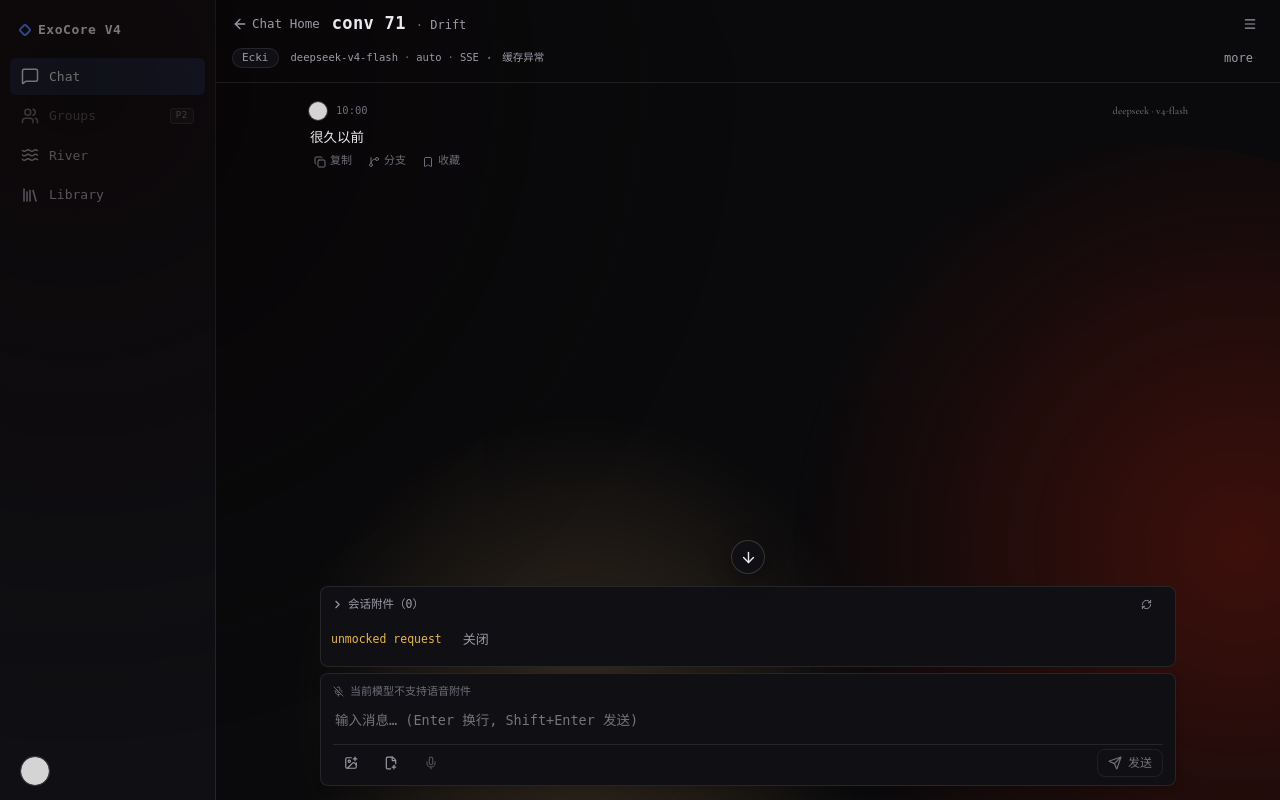
C1B-R1 repair invariants — canonical reconciliation (R1-03) › scrolled-up reader: terminal holds pages untouched and applies canonical window on return-to-latest
The image size is (1280, 800).
Expected: the text "很久以前" is shown, 310,129 -> 364,145
Type "提问" into the text box with placeholder "输入消息… (Enter 换行, Shift+Enter 发送)" at (748, 720), box 333,708 -> 1163,732
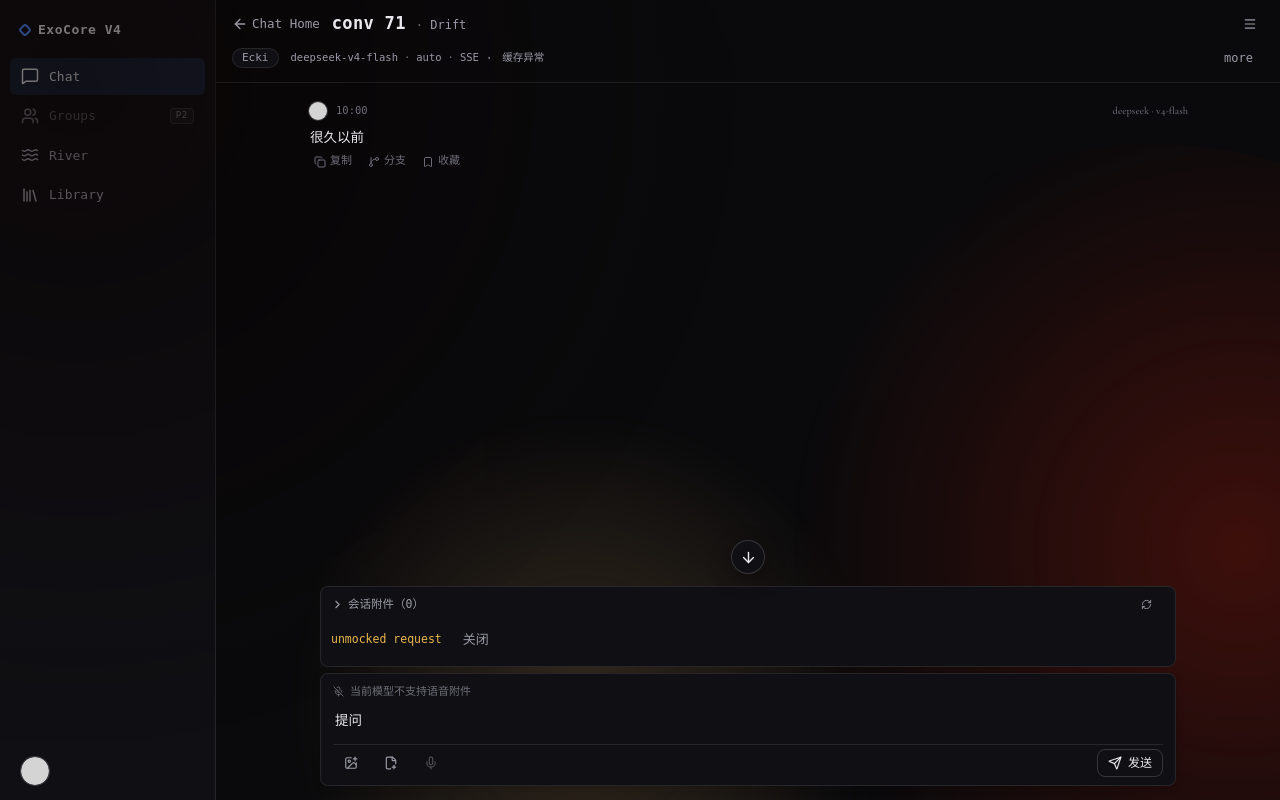
Press Enter in the text box named "消息输入框", box 333,708 -> 1163,732
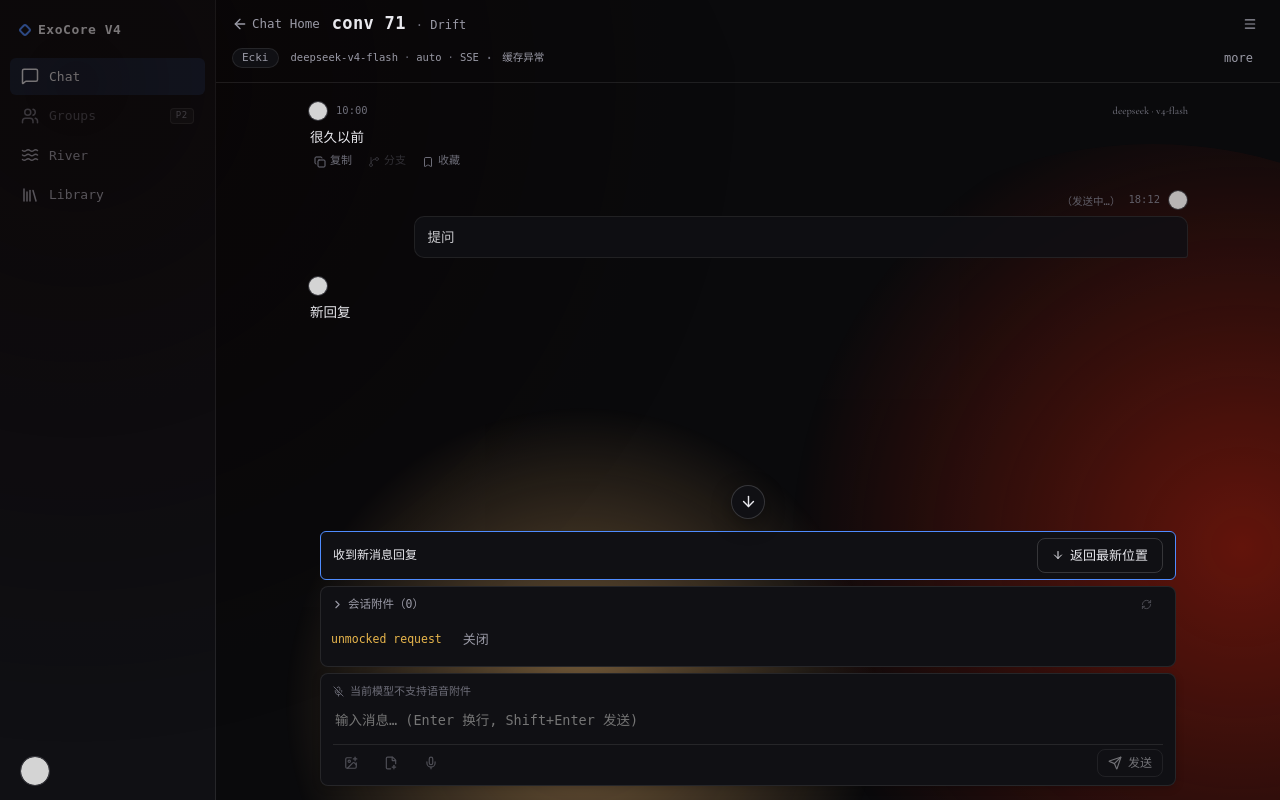
Click the button named "返回最新消息" at (748, 502), box 731,484 -> 765,518
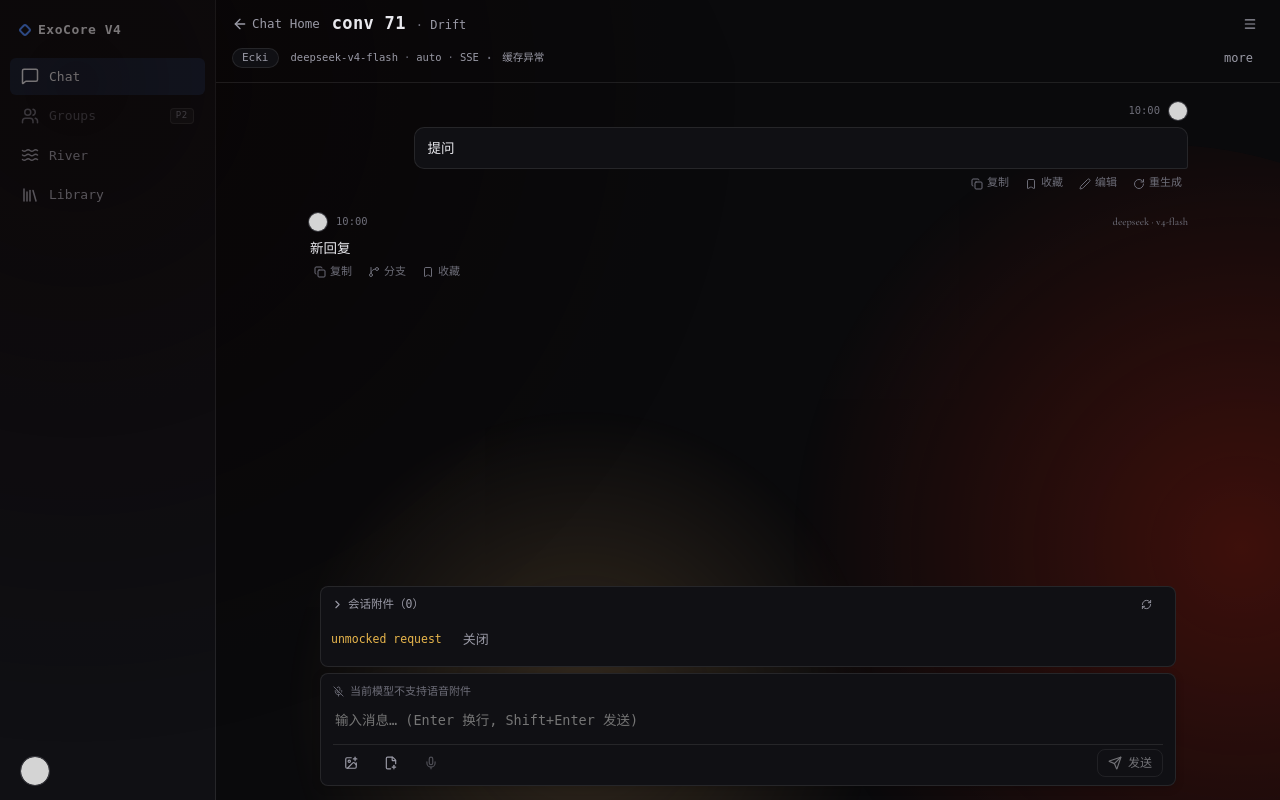
Expected: the text "新回复" is shown, 310,240 -> 350,256
Expected: the button "返回最新位置" is gone
Expected: the button "返回最新消息" is gone
